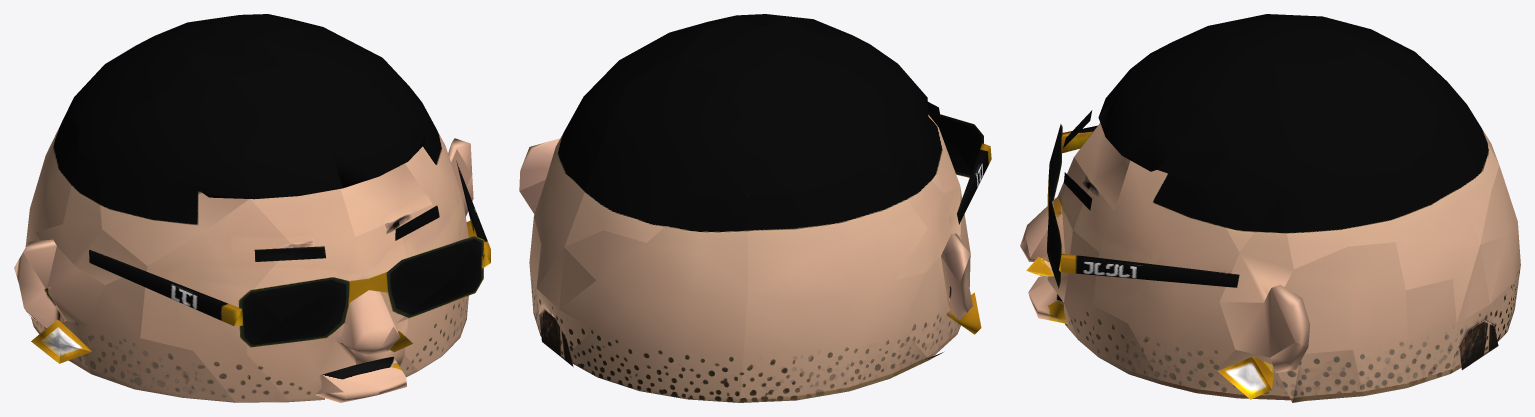
File: joel_head.glb
3 renders of one model, left to right at view 1: azimuth 30°, elevation 25°; view 2: azimuth 150°, elevation 25°; view 3: azimuth 270°, elevation 25°, orthographic.
Parts seen in each view (by area): view 1: mesh_node; view 2: mesh_node; view 3: mesh_node.
Part boxes in pixels (x1,y1,x2,y2): mesh_node: (14,14,490,402); mesh_node: (519,14,991,402); mesh_node: (1020,14,1520,402).
Size of the model in its own units: 1 by 0.5898 by 0.9609.
1 material, 1 textured.
